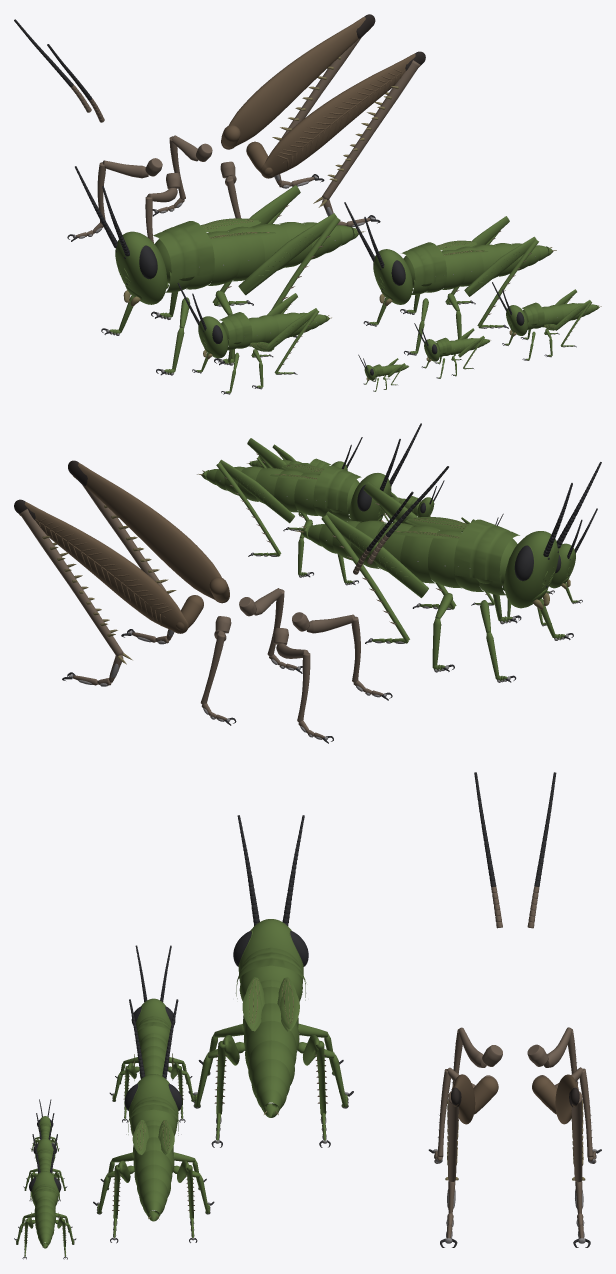
Rendered from grasshopper.glb.
3 views of the same model, one above another, from view 1: azimuth 30°, elevation 25°; view 2: azimuth 150°, elevation 25°; view 3: azimuth 270°, elevation 25° (orthographic). The views are drawn at different scales.
Parts seen in each view (by area): view 1: nymph-6, nymph-5, hind-femora, nymph-4, hind-femora-other, nymph-3, hind-tibiae, hind-tibiae-other, nymph-2, fore-legs-other, mid-legs-other, fore-legs (+3 smaller); view 2: nymph-6, nymph-5, hind-femora-other, hind-femora, hind-tibiae-other, hind-tibiae, fore-legs, nymph-4, fore-legs-other, mid-legs, mid-legs-other, nymph-3 (+3 smaller); view 3: nymph-6, nymph-5, nymph-4, nymph-3, hind-femora-other, hind-femora, hind-tibiae-other, hind-tibiae, fore-legs-other, fore-legs, nymph-2, antennae-other (+3 smaller).
Boxes of the visible parts, bbox=[...] form: nymph-6: bbox=[75, 166, 365, 375]; nymph-5: bbox=[344, 202, 556, 355]; hind-femora: bbox=[246, 51, 425, 178]; nymph-4: bbox=[177, 283, 331, 394]; hind-femora-other: bbox=[221, 14, 375, 149]; nymph-3: bbox=[492, 282, 601, 360]; hind-tibiae: bbox=[313, 60, 420, 226]; hind-tibiae-other: bbox=[272, 38, 360, 188]; nymph-2: bbox=[414, 323, 490, 378]; fore-legs-other: bbox=[67, 158, 162, 241]; mid-legs-other: bbox=[152, 135, 212, 216]; fore-legs: bbox=[145, 173, 180, 242]; nymph-6: bbox=[295, 462, 601, 682]; nymph-5: bbox=[197, 423, 421, 585]; hind-femora-other: bbox=[14, 499, 203, 633]; hind-femora: bbox=[68, 460, 229, 603]; hind-tibiae-other: bbox=[19, 509, 132, 686]; hind-tibiae: bbox=[82, 485, 176, 644]; fore-legs: bbox=[292, 612, 392, 700]; nymph-4: bbox=[471, 508, 597, 626]; fore-legs-other: bbox=[273, 628, 333, 743]; mid-legs: bbox=[239, 588, 302, 673]; mid-legs-other: bbox=[200, 616, 236, 725]; nymph-3: bbox=[247, 437, 362, 517]; nymph-6: bbox=[188, 815, 353, 1147]; nymph-5: bbox=[93, 999, 214, 1243]; nymph-4: bbox=[109, 945, 194, 1122]; nymph-3: bbox=[14, 1134, 76, 1259]; hind-femora-other: bbox=[532, 1074, 579, 1124]; hind-femora: bbox=[451, 1074, 498, 1124]; hind-tibiae-other: bbox=[571, 1091, 590, 1247]; hind-tibiae: bbox=[440, 1091, 459, 1247]; fore-legs-other: bbox=[527, 1027, 583, 1106]; fore-legs: bbox=[447, 1027, 502, 1105]; nymph-2: bbox=[23, 1113, 67, 1201]; antennae-other: bbox=[527, 772, 556, 928].
Size of the model in its own units: 3.16 by 1.82 by 3.25.
